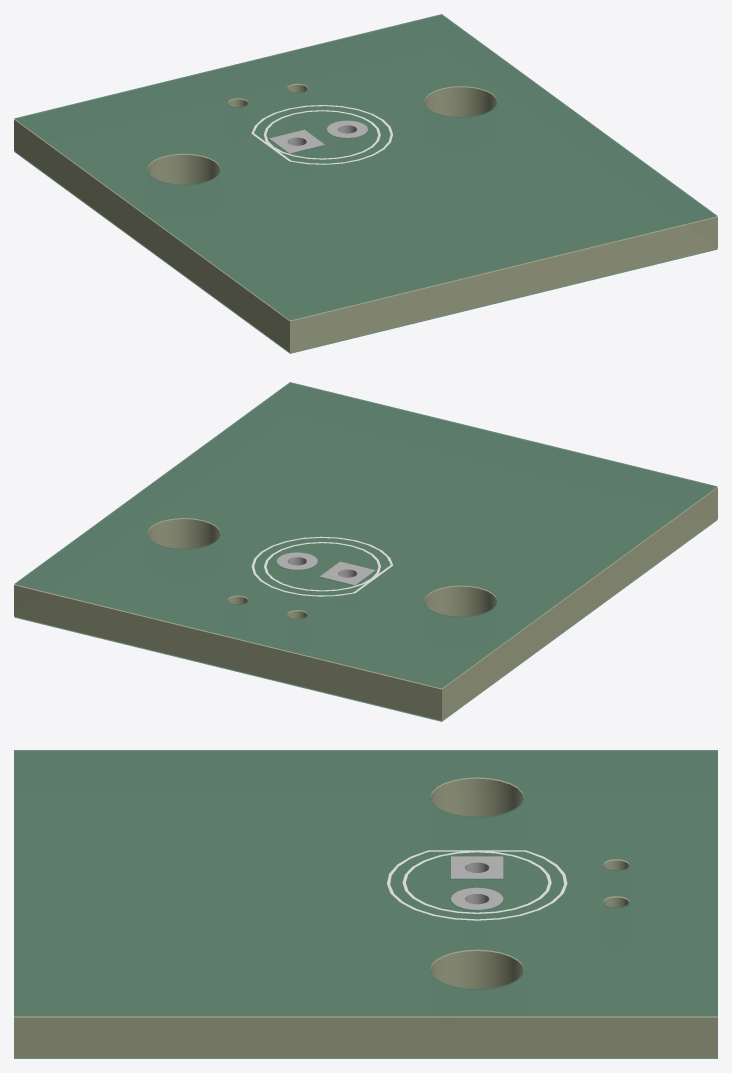
The model's file is sao-defcon-jack.glb.
3 renders of one model, top to bottom at view 1: azimuth 30°, elevation 25°; view 2: azimuth 150°, elevation 25°; view 3: azimuth 270°, elevation 25°, orthographic. The views are drawn at different scales.
Parts seen in each view (by area): view 1: =>[0:1:1:8], =>[0:1:1:6], =>[0:1:1:2], =>[0:1:1:4]; view 2: =>[0:1:1:8], =>[0:1:1:6], =>[0:1:1:2], =>[0:1:1:4]; view 3: =>[0:1:1:8], =>[0:1:1:6], =>[0:1:1:2], =>[0:1:1:4].
Boxes of the visible parts, <box> form: =>[0:1:1:8]: <box>14,16,717,352</box>; =>[0:1:1:6]: <box>14,14,717,353</box>; =>[0:1:1:2]: <box>269,120,367,153</box>; =>[0:1:1:4]: <box>251,105,392,164</box>; =>[0:1:1:8]: <box>14,384,717,720</box>; =>[0:1:1:6]: <box>14,382,717,721</box>; =>[0:1:1:2]: <box>277,552,375,585</box>; =>[0:1:1:4]: <box>251,536,393,596</box>; =>[0:1:1:8]: <box>14,752,717,1057</box>; =>[0:1:1:6]: <box>14,750,717,1058</box>; =>[0:1:1:2]: <box>451,856,503,910</box>; =>[0:1:1:4]: <box>387,850,567,920</box>.
Bounding box in the file's own units: 0.0216 × 0.00166 × 0.0241.
Materials: 4 (4 with a texture image).
